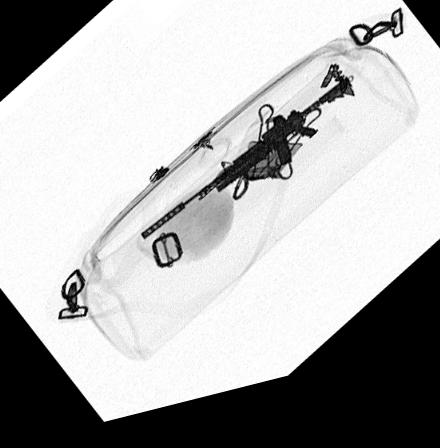Gun: (138, 91, 356, 250)
